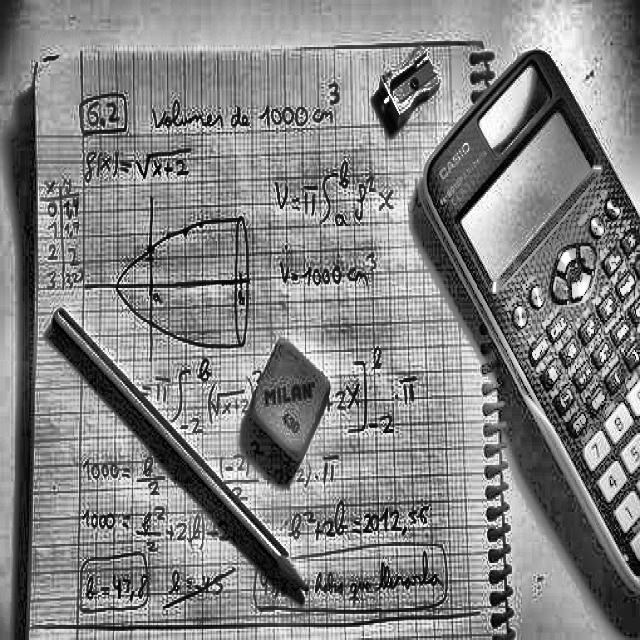Notebook: (8, 23, 585, 640)
